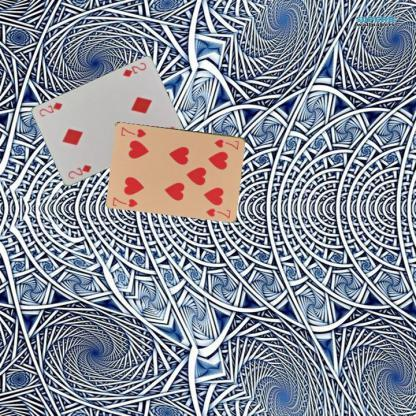2d: (121, 60, 148, 79), (65, 162, 93, 180)
7h: (110, 194, 140, 209), (211, 136, 240, 151)
